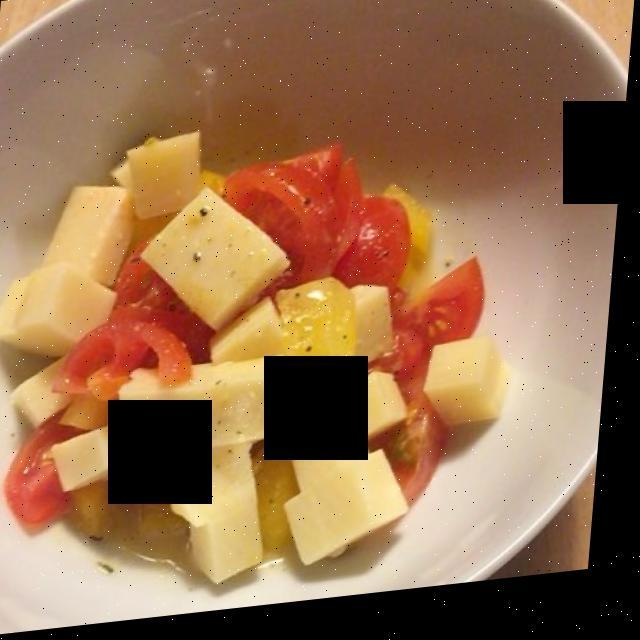bell-pepper: (284, 290, 359, 389)
cheese: (0, 138, 528, 584)
salad: (122, 507, 201, 577)
